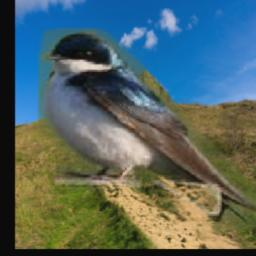Swallow: (38, 28, 256, 233)
